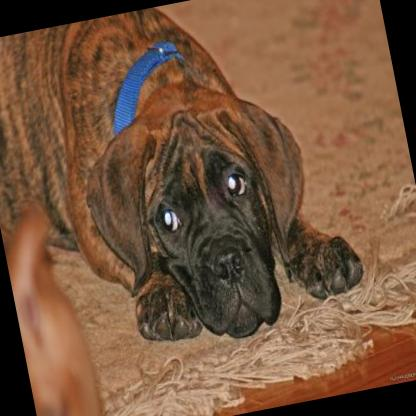bull_mastiff: (0, 0, 370, 374)
